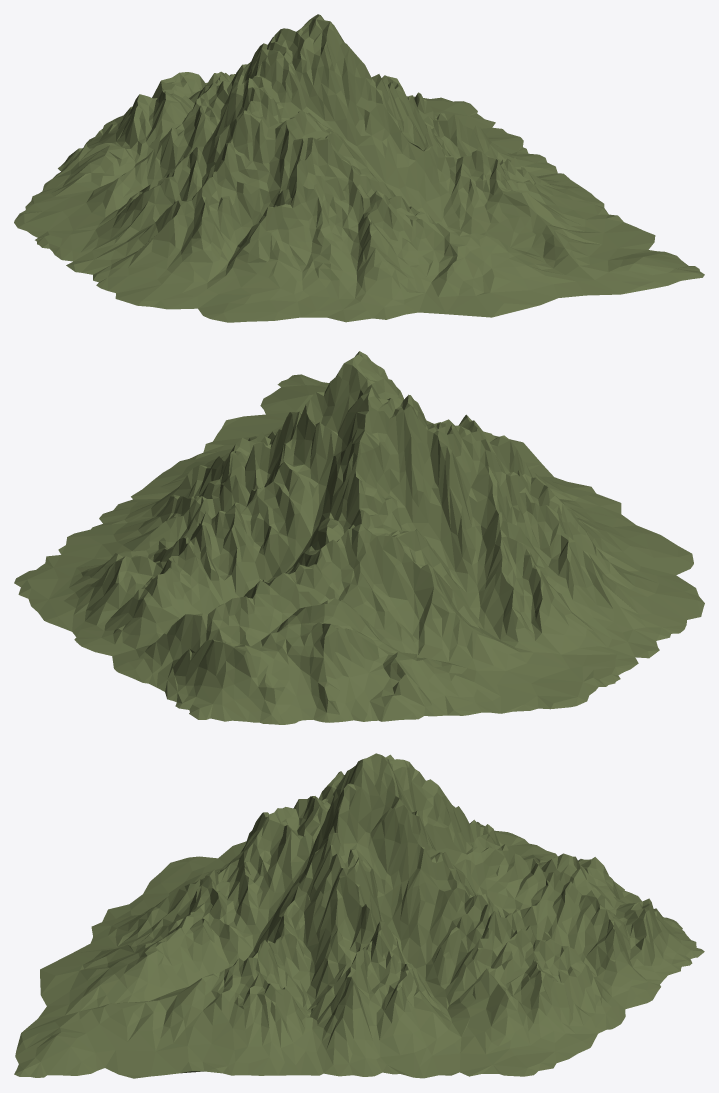
File: SM_Envr_Nature_Mountain_05_01.fbx
The picture shows the model from 3 angles, top to bottom: view 1: azimuth 30°, elevation 25°; view 2: azimuth 150°, elevation 25°; view 3: azimuth 270°, elevation 25°; orthographic projection. The views are drawn at different scales.
Parts seen in each view (by area): view 1: SM_Envr_Nature_Mountain_05_01; view 2: SM_Envr_Nature_Mountain_05_01; view 3: SM_Envr_Nature_Mountain_05_01.
Part boxes in pixels (bbox=[...]): SM_Envr_Nature_Mountain_05_01: bbox=[14, 14, 704, 322]; SM_Envr_Nature_Mountain_05_01: bbox=[14, 351, 704, 724]; SM_Envr_Nature_Mountain_05_01: bbox=[14, 753, 704, 1078].
Bounding box in the file's own units: 71078 × 27604 × 83263.
